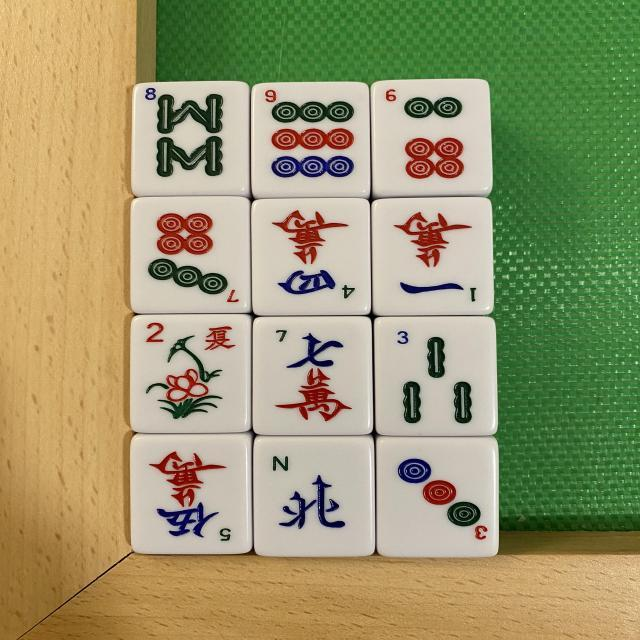bs2: (132, 314, 252, 432)
hwn: (256, 436, 376, 558)
sb3: (376, 320, 496, 440)
sb8: (128, 82, 244, 196)
sc1: (372, 198, 490, 318)
sc4: (251, 198, 369, 315)
sc5: (126, 434, 250, 556)
sc7: (252, 316, 371, 436)
sd3: (377, 432, 498, 555)
sd6: (376, 81, 488, 197)
sd7: (128, 196, 245, 317)
sd9: (250, 84, 367, 198)
